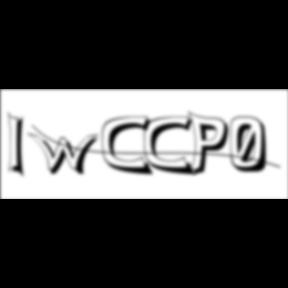0: (230, 115, 276, 174)
C: (102, 115, 158, 178), (144, 115, 198, 178)
I: (8, 110, 32, 182)
P: (189, 110, 236, 180)
w: (28, 132, 106, 178)
